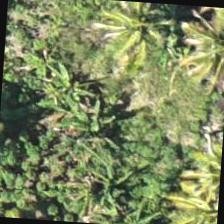Kelapa_Sawit: (175, 5, 223, 100), (157, 171, 220, 223)
